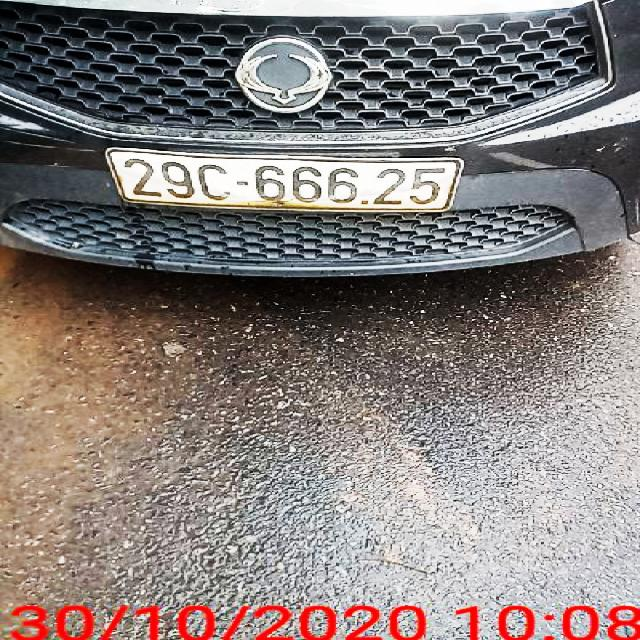license_plate: (111, 154, 456, 212)
